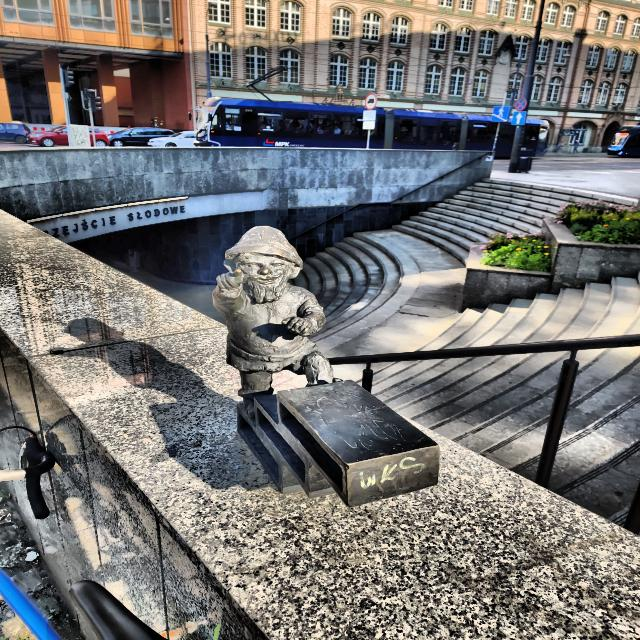Elementek: (213, 226, 440, 506)
